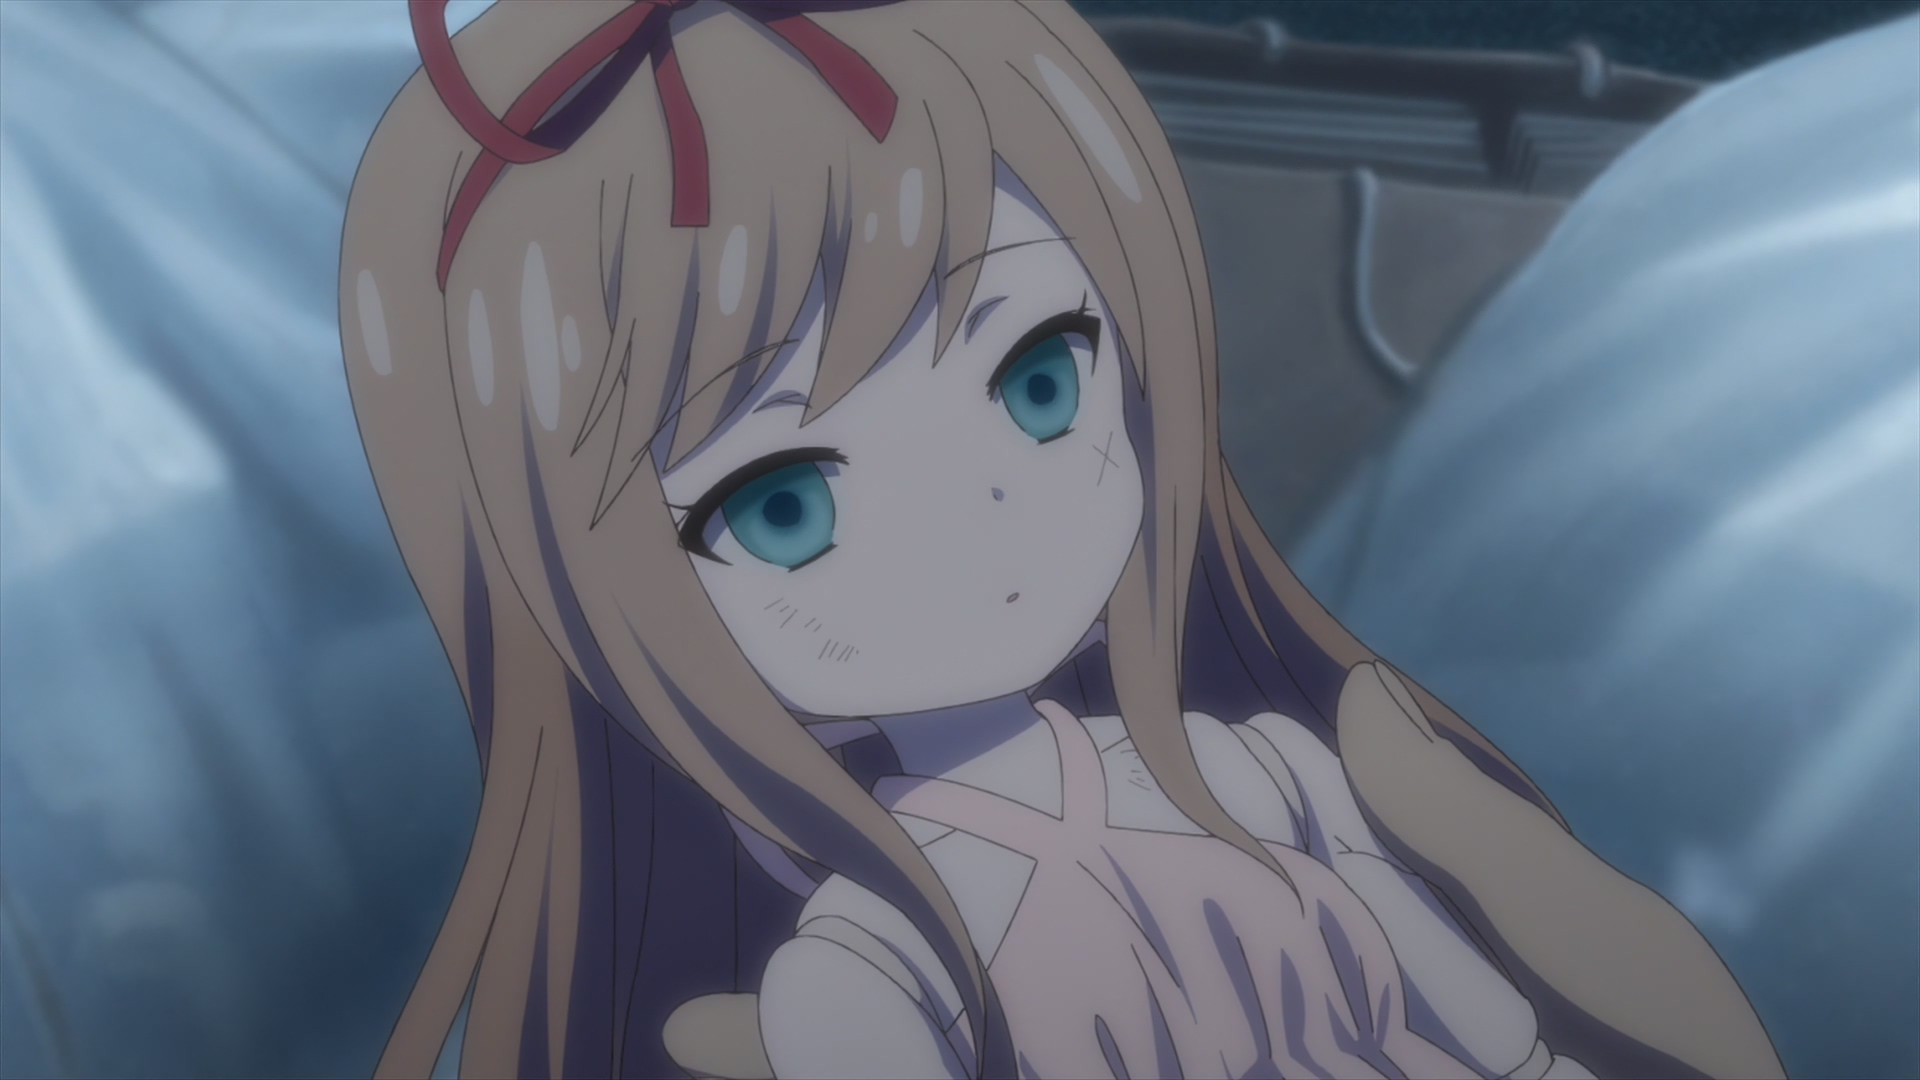其他: (338, 1, 1596, 1080)
